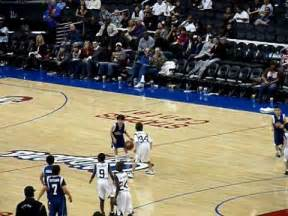basketball: (123, 140, 134, 150)
